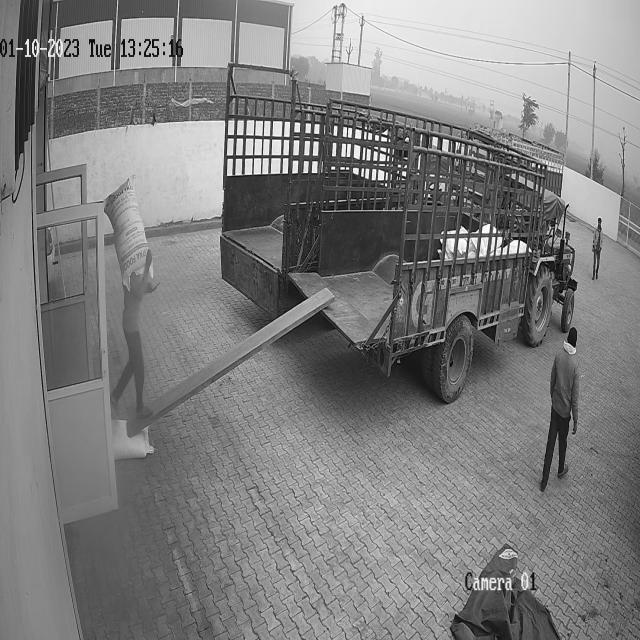sack: (103, 176, 151, 290), (112, 416, 155, 460)
